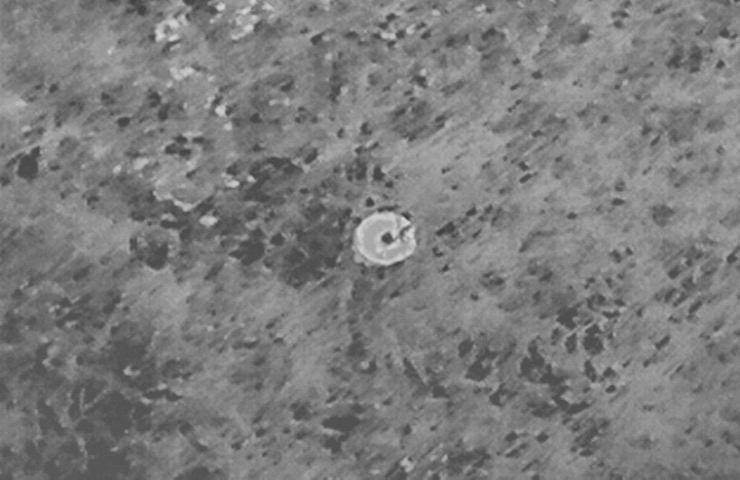landmines: (351, 207, 422, 269)
